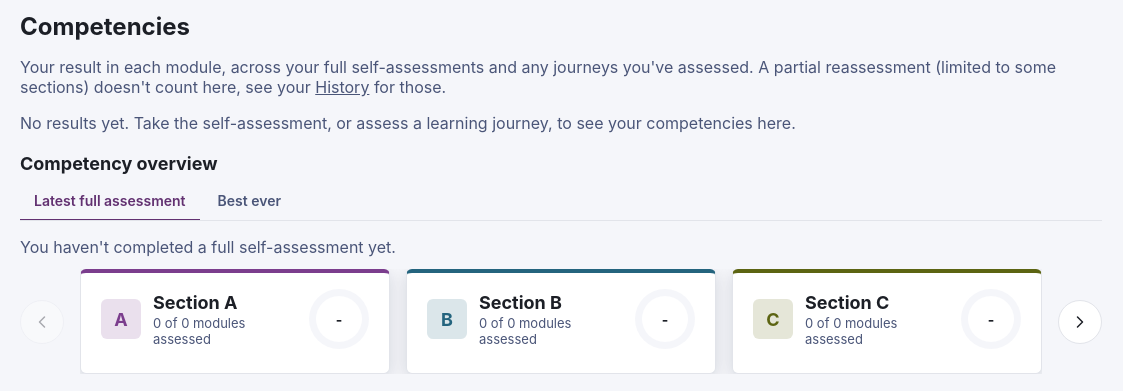
Test: CompetenciesPage › steps back with Previous until it's disabled at the start again
Expected: the element "Section A" is shown, left=80, top=269, right=390, bottom=374
What coordinates should you click on to do the following:
click the button named "Next section"
I would click on:
 (1080, 322)
Its box is left=1058, top=300, right=1102, bottom=344.
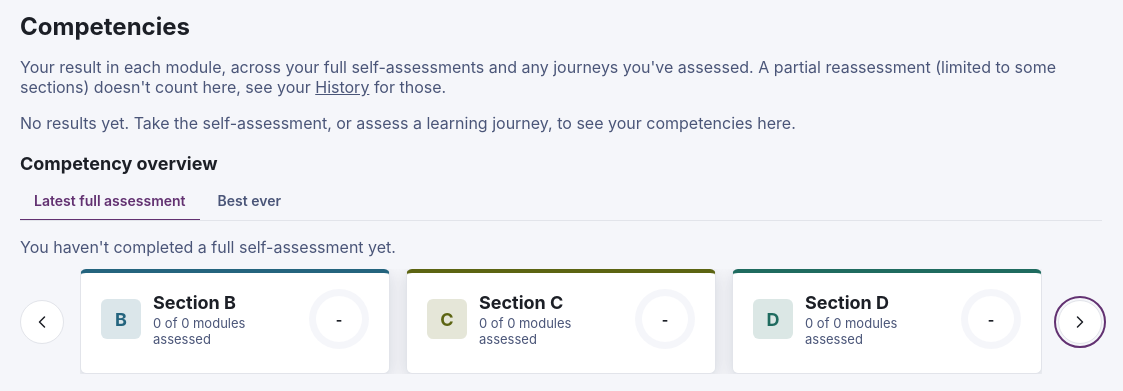
What coordinates should you click on to do the following:
click the button named "Next section"
I would click on:
 (1080, 322)
Its box is left=1058, top=300, right=1102, bottom=344.
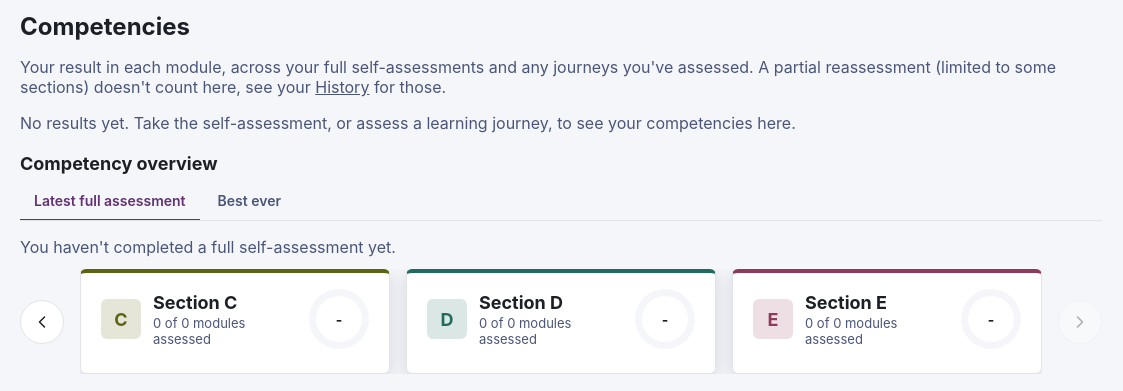
What coordinates should you click on to do the following:
click the button named "Previous section"
I would click on:
 (42, 322)
Its box is left=20, top=300, right=64, bottom=344.
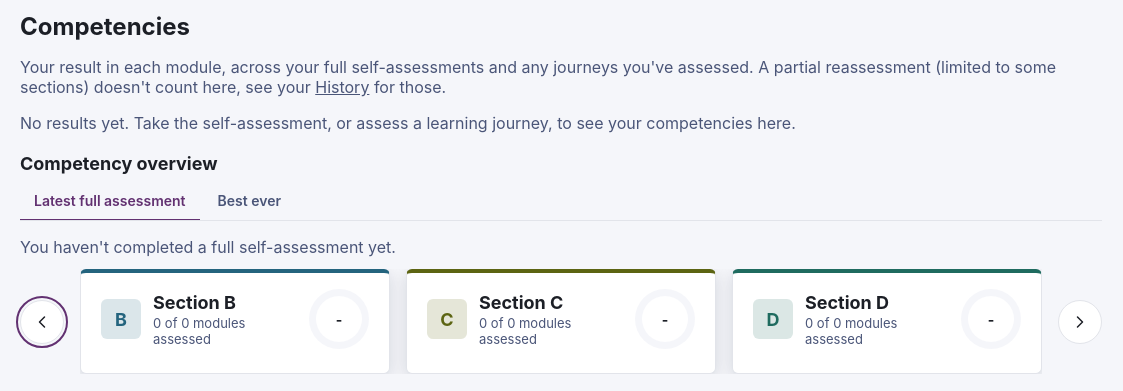
What coordinates should you click on to do the following:
click the button named "Previous section"
I would click on:
 (42, 322)
Its box is left=20, top=300, right=64, bottom=344.
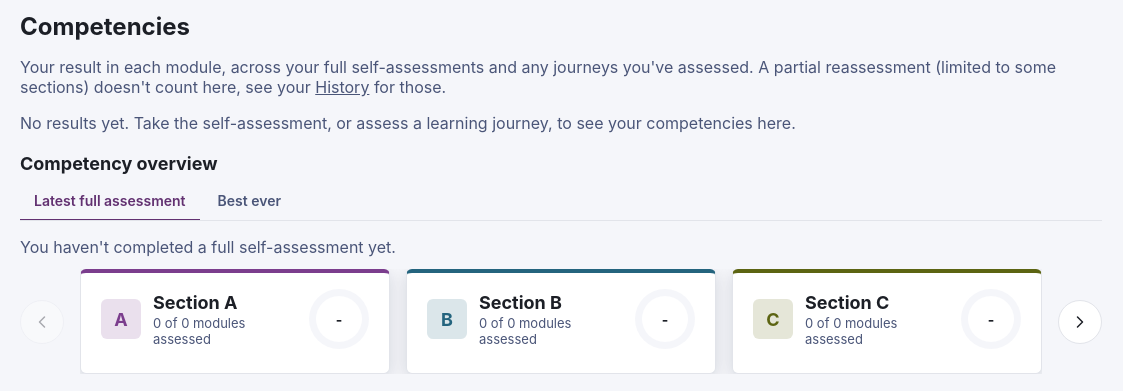
Now the button named "Next section" is enabled, box left=1058, top=300, right=1102, bottom=344
Now the button named "Previous section" is disabled, box left=20, top=300, right=64, bottom=344
